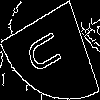U: (25, 25, 69, 77)
